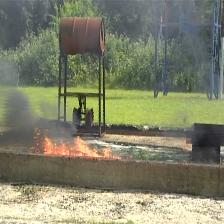fire: (31, 127, 122, 158)
